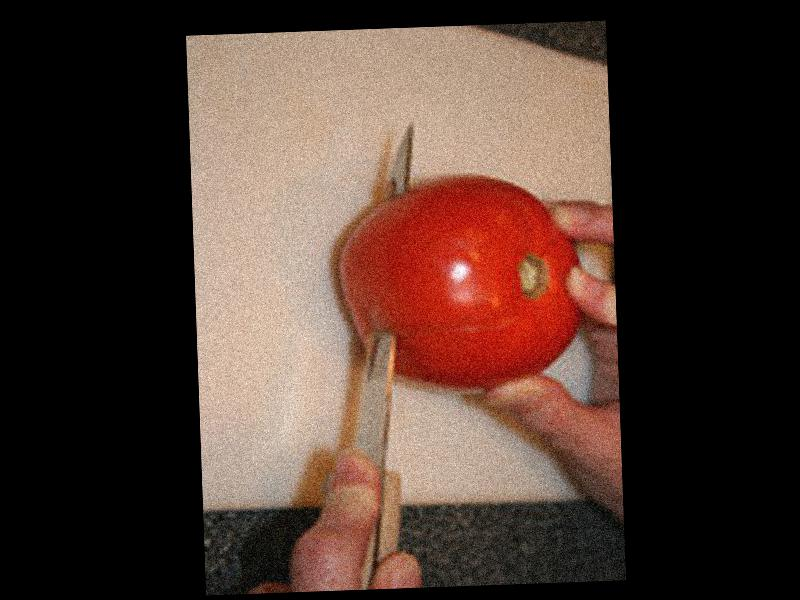Tomato: (336, 169, 586, 392)
